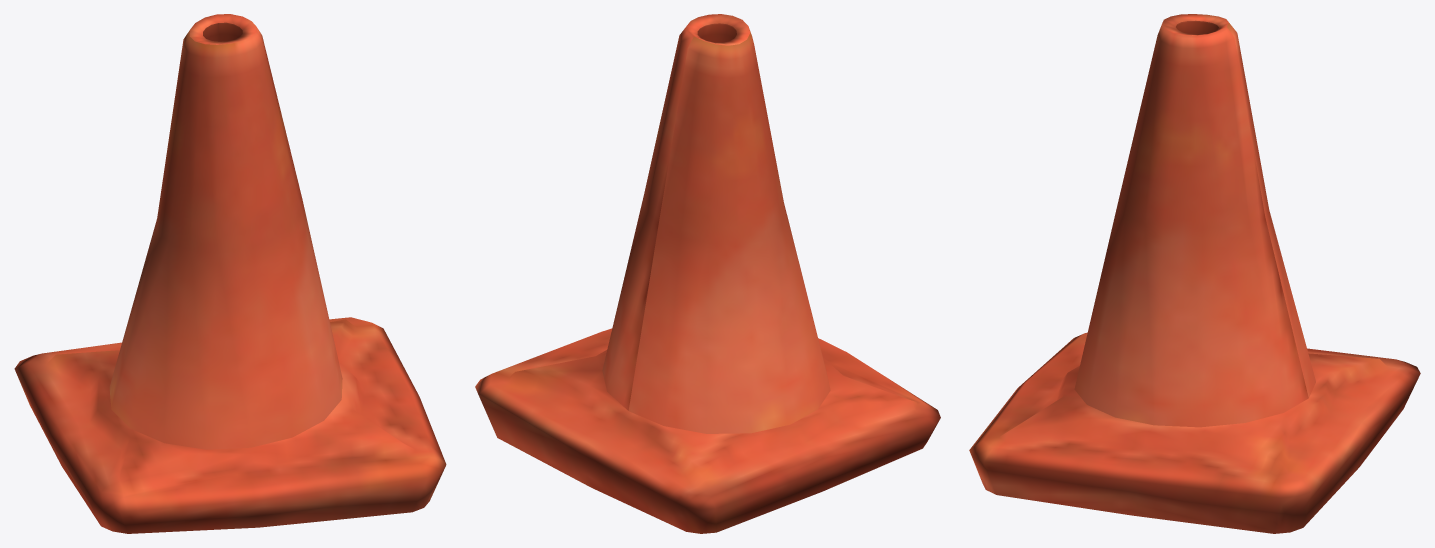
File: nc_prop_cone_04.fbx
The picture shows the model from 3 angles, left to right: view 1: azimuth 30°, elevation 25°; view 2: azimuth 150°, elevation 25°; view 3: azimuth 270°, elevation 25°; orthographic projection. The views are drawn at different scales.
Visible parts, largest first — view 1: nc_prop_cone_04_LOD0; view 2: nc_prop_cone_04_LOD0; view 3: nc_prop_cone_04_LOD0.
Part boxes in pixels (box(x1,y1,x2,y2)): nc_prop_cone_04_LOD0: box(14, 14, 446, 533); nc_prop_cone_04_LOD0: box(475, 14, 940, 533); nc_prop_cone_04_LOD0: box(969, 14, 1420, 533).
Size of what is drawn, in the model's own units: 0.3894 by 0.416 by 0.4031.
Materials: 1 (1 with a texture image).
